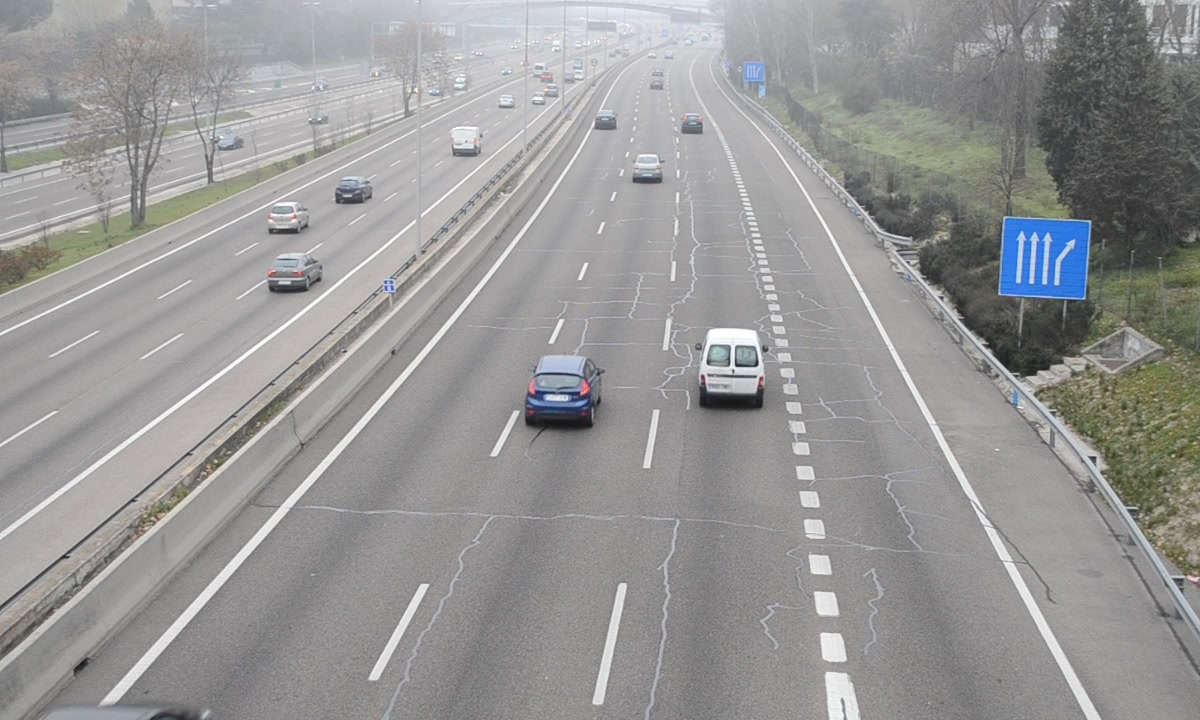car: (526, 354, 599, 424), (631, 154, 663, 180), (593, 108, 618, 132), (681, 113, 704, 134)
van: (698, 328, 764, 405)
